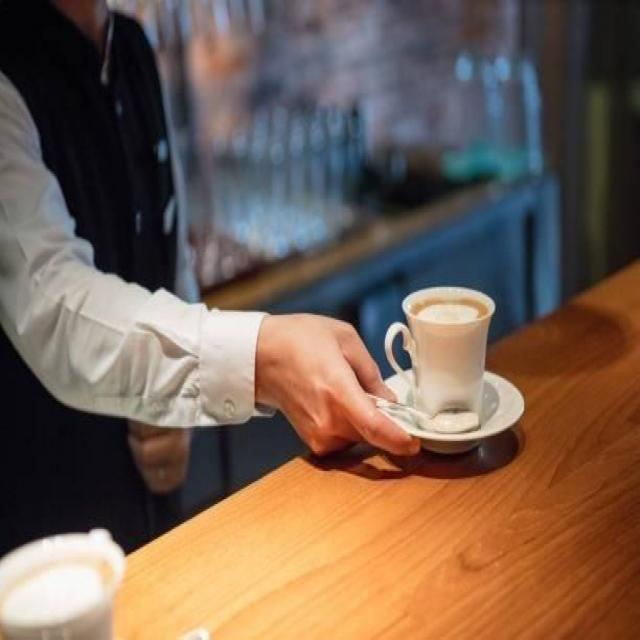cup-handle: (382, 284, 497, 432)
